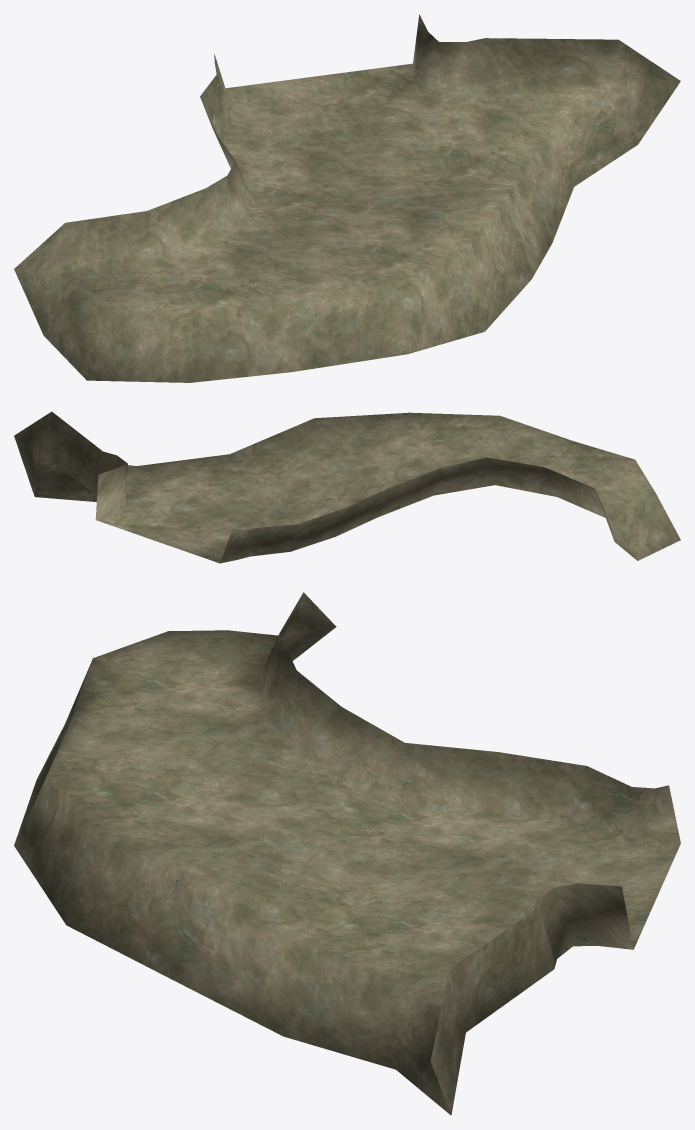
Rendered from EKH_THRONE_PS_TH_OBJECT02.fbx.
3 views of the same model, one above another, from view 1: azimuth 30°, elevation 25°; view 2: azimuth 150°, elevation 25°; view 3: azimuth 270°, elevation 25° (orthographic). The views are drawn at different scales.
Parts seen in each view (by area): view 1: EKH_THRONE_PS_TH_OBJECT02; view 2: EKH_THRONE_PS_TH_OBJECT02; view 3: EKH_THRONE_PS_TH_OBJECT02.
Boxes of the visible parts, bbox=[...] form: EKH_THRONE_PS_TH_OBJECT02: bbox=[14, 14, 680, 382]; EKH_THRONE_PS_TH_OBJECT02: bbox=[14, 411, 680, 563]; EKH_THRONE_PS_TH_OBJECT02: bbox=[14, 592, 680, 1115].
Size of the model in its own units: 80963 by 14619 by 54054.
1 material, 1 textured.
